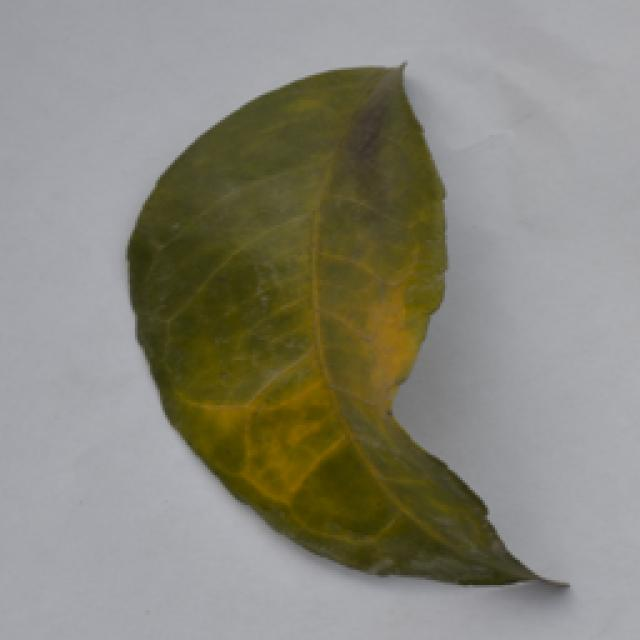greening: (125, 56, 587, 616)
